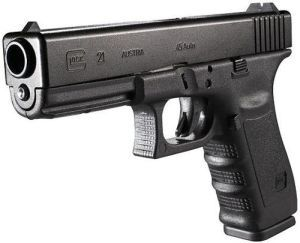gun: (1, 1, 299, 242)
